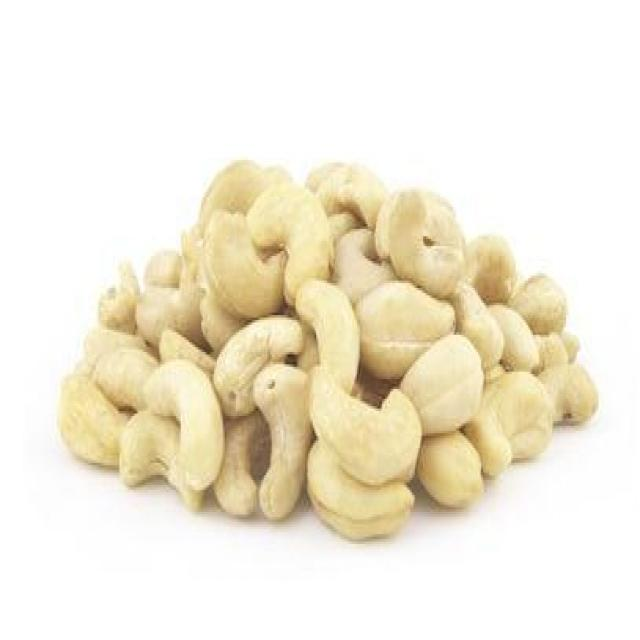cashew: (255, 369, 324, 529), (154, 355, 231, 489), (374, 192, 476, 292), (317, 387, 429, 477), (312, 468, 418, 553), (354, 275, 450, 365), (406, 330, 482, 435), (481, 374, 555, 480), (276, 188, 344, 301), (300, 262, 361, 380), (193, 214, 264, 305), (430, 432, 480, 502)
